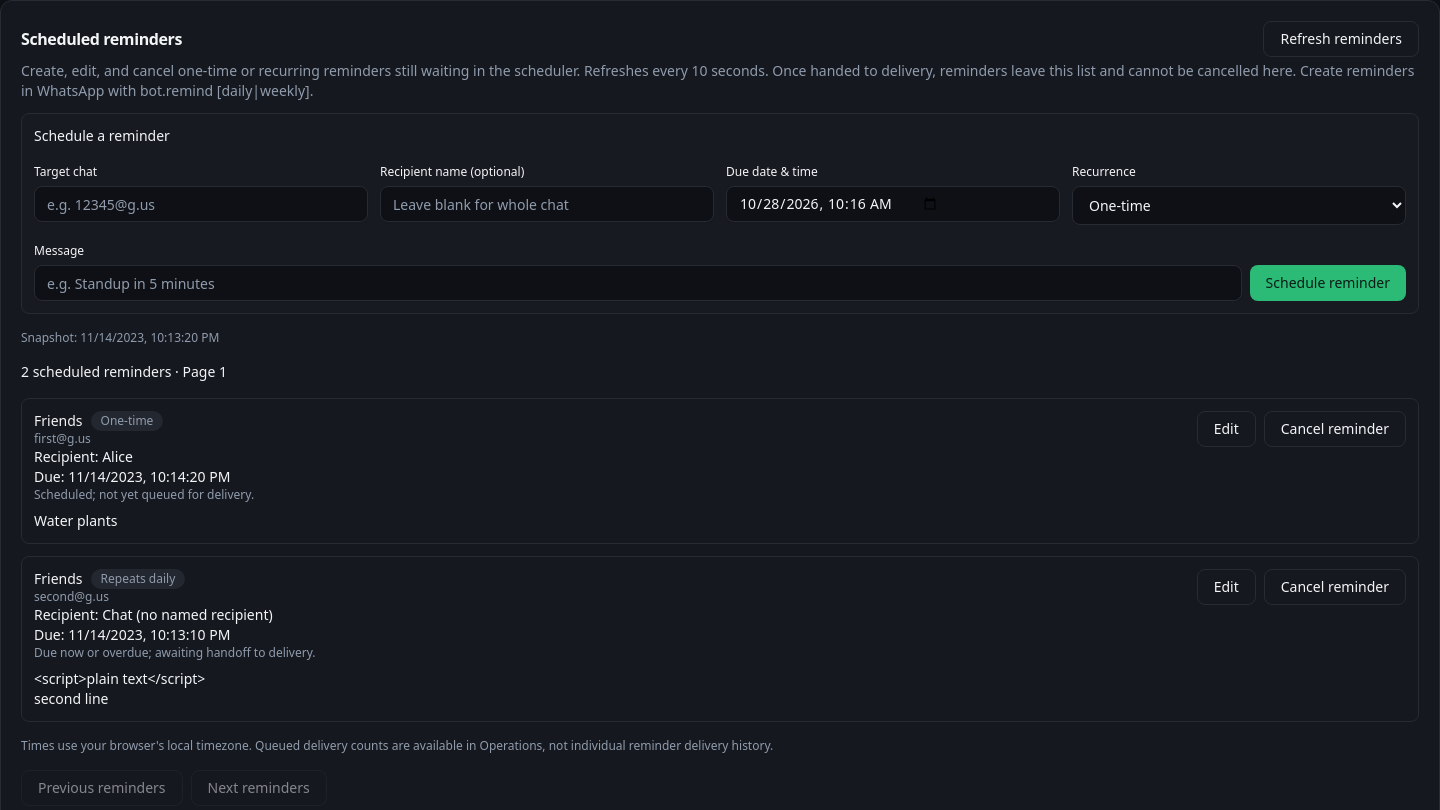
Test case: scheduled reminders › reports a handoff conflict without success and refreshes out-of-date scheduled entries
The width and height of the screenshot is (1440, 810).
Expected: the text "Water plants" is shown, [34,511,118,530]
Step 1. Click the button "Cancel reminder" in the row of "first@g.us" → (1335, 429), box [1264,411,1406,447]
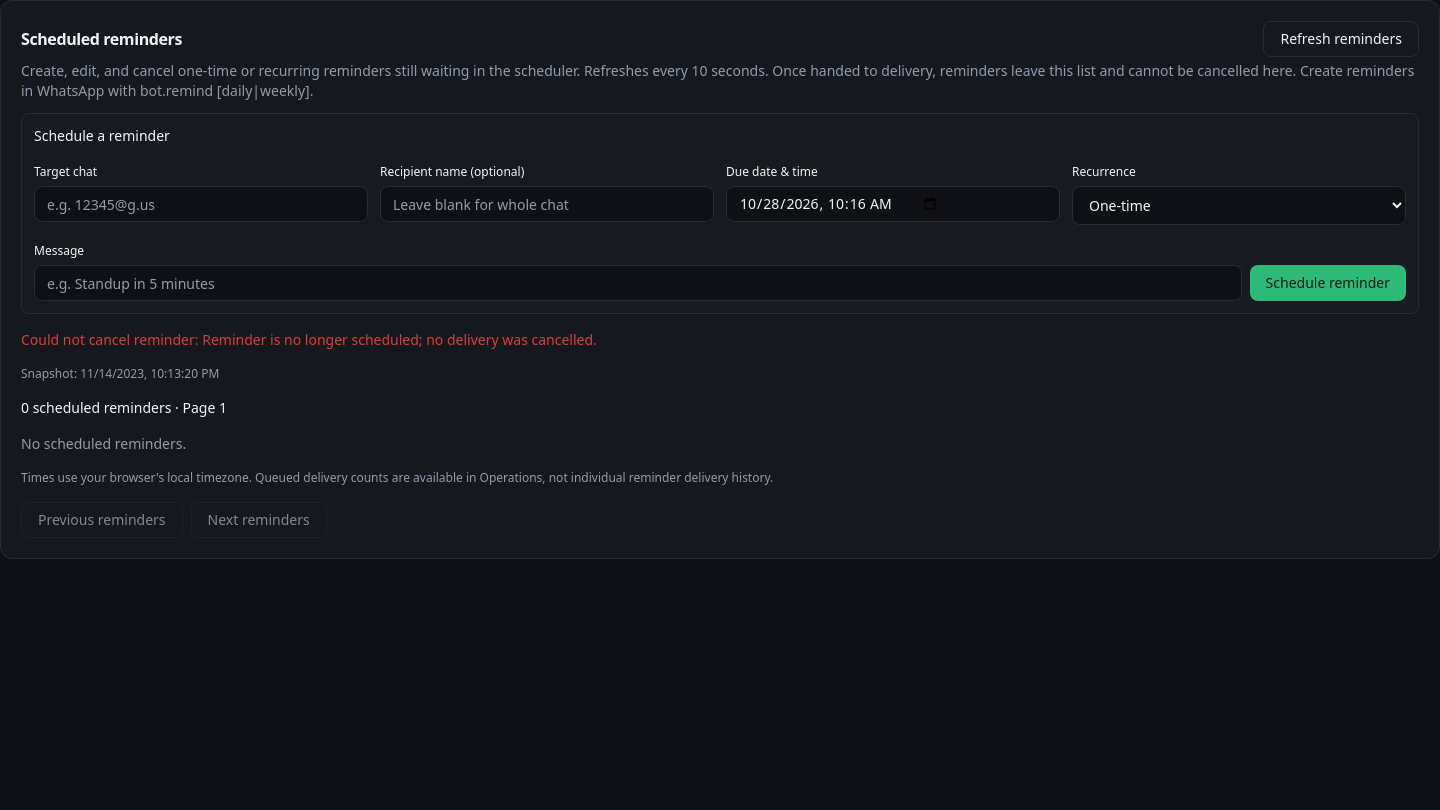
Result: the message shows "no delivery was cancelled" at [202,330,597,349]
Result: the text "No scheduled reminders." is shown at [21,434,186,453]
